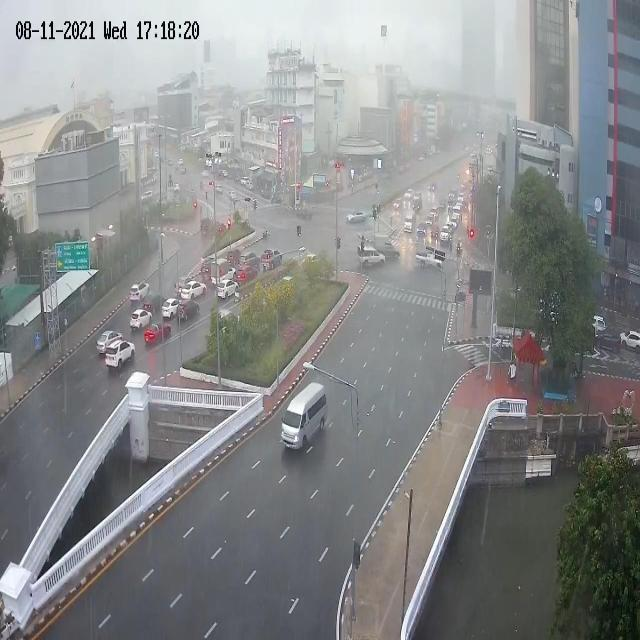Car: (105, 341, 136, 373), (144, 321, 172, 349), (94, 329, 123, 354), (212, 258, 235, 286), (129, 278, 150, 306), (177, 299, 201, 322), (180, 281, 207, 301), (130, 307, 152, 330), (261, 248, 282, 272), (216, 281, 238, 300), (234, 265, 256, 284), (161, 298, 181, 318), (237, 251, 258, 267), (346, 211, 368, 221), (440, 225, 450, 242), (428, 207, 439, 220), (417, 223, 427, 236), (429, 227, 439, 240), (456, 238, 462, 257), (393, 198, 402, 210), (428, 183, 437, 190)
Truck: (412, 191, 422, 211)
Van: (280, 381, 326, 455), (404, 209, 415, 233)
